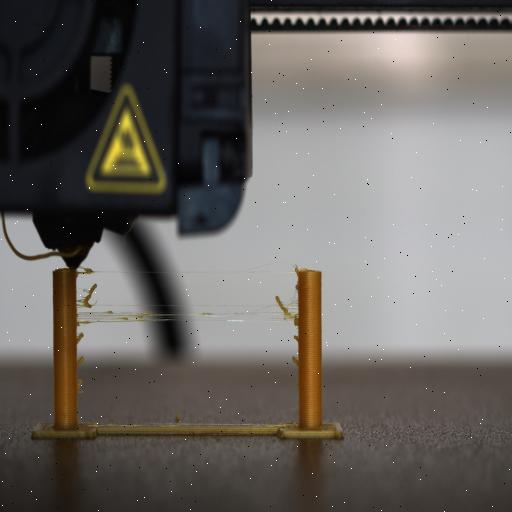stringing: (75, 300, 161, 328), (76, 278, 102, 326), (274, 290, 298, 330), (74, 332, 88, 348), (74, 352, 88, 368), (75, 374, 86, 394)
